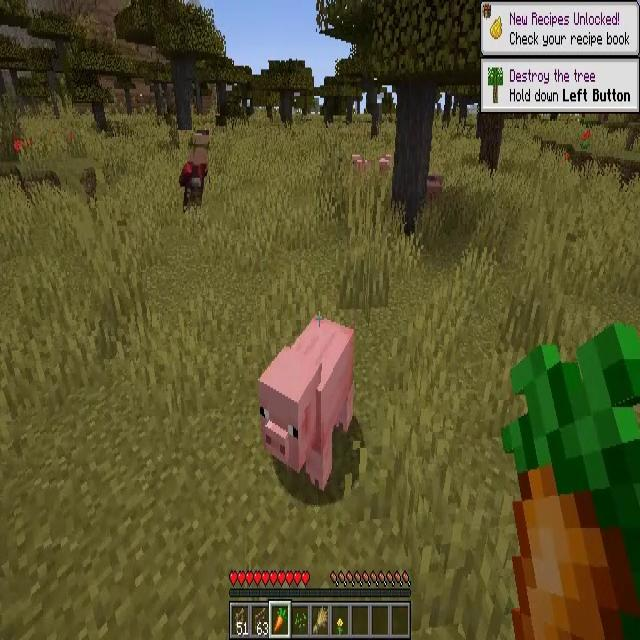people: (180, 130, 210, 214)
pig: (258, 320, 356, 481), (351, 153, 366, 175), (379, 152, 390, 174)
